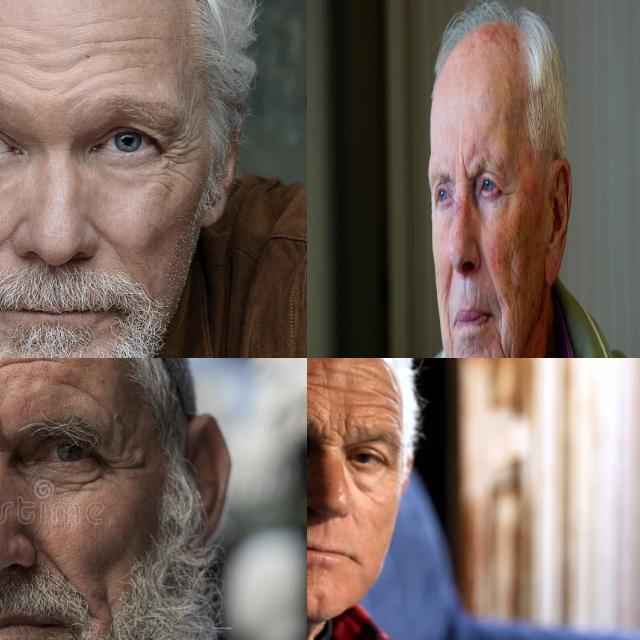crows_feet: (160, 133, 192, 175), (103, 454, 137, 482), (501, 182, 516, 206)
forehead: (55, 374, 103, 406), (100, 26, 152, 52), (78, 9, 134, 31), (78, 60, 138, 80), (361, 384, 395, 418), (312, 370, 351, 396), (13, 71, 55, 95), (3, 358, 65, 373), (0, 36, 36, 59), (353, 360, 383, 386)
frown_line: (316, 418, 346, 452), (0, 413, 11, 444), (451, 156, 460, 186), (460, 147, 468, 180)
gummy_smile: (95, 225, 126, 263), (40, 546, 74, 574), (0, 222, 15, 269), (488, 273, 504, 309), (445, 264, 455, 303)
sad_smile: (494, 324, 504, 352), (446, 312, 454, 342)
